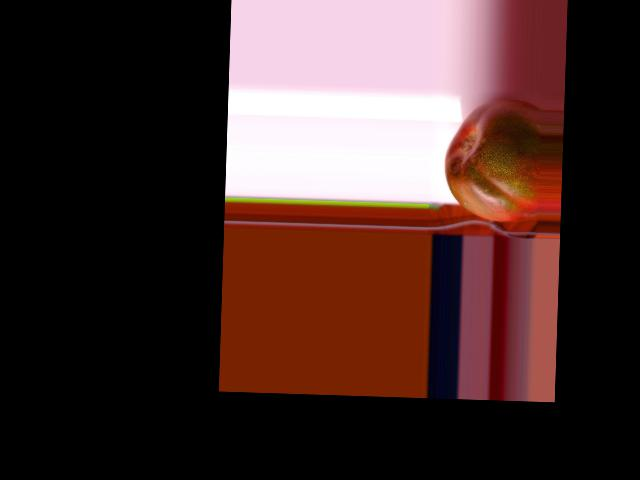tomato: (443, 98, 542, 223)
